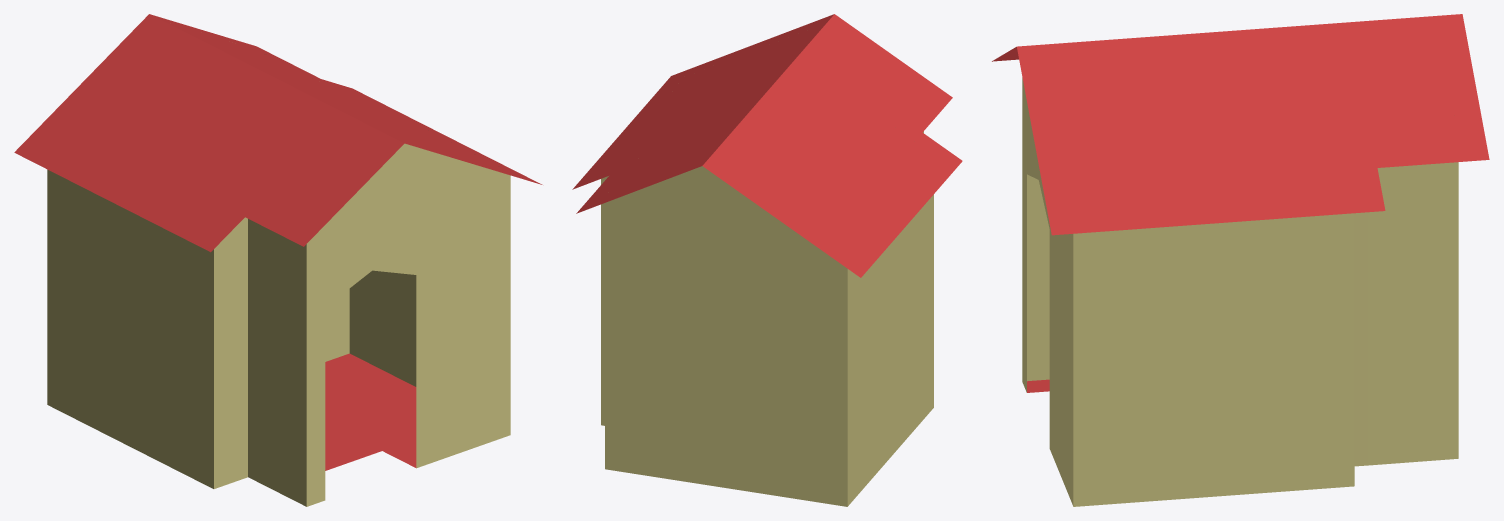
3 views of the same model, side by side, from view 1: azimuth 30°, elevation 25°; view 2: azimuth 150°, elevation 25°; view 3: azimuth 270°, elevation 25° (orthographic). The views are drawn at different scales.
Size of the model in its own units: 13.42 by 14.04 by 12.06.
